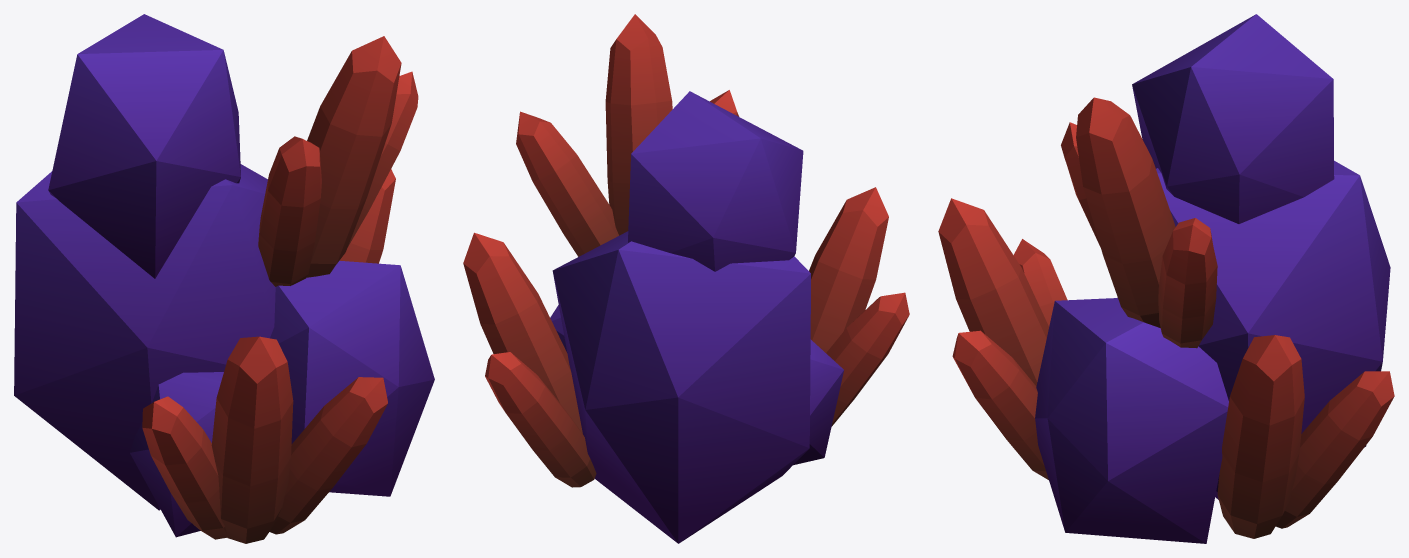
The model's file is anp_rock_5.fbx.
The picture shows the model from 3 angles, left to right: view 1: azimuth 30°, elevation 25°; view 2: azimuth 150°, elevation 25°; view 3: azimuth 270°, elevation 25°; orthographic projection. The views are drawn at different scales.
Parts seen in each view (by area): view 1: rock5; view 2: rock5; view 3: rock5.
Boxes of the visible parts, x1=… form: rock5: x1=14, y1=14, x2=434, y2=543; rock5: x1=463, y1=14, x2=909, y2=543; rock5: x1=938, y1=14, x2=1394, y2=543.
Bounding box in the file's own units: 92.7 × 105 × 98.05.
